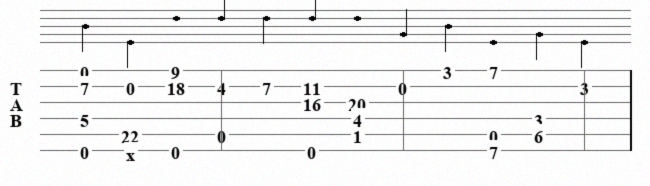0: (80, 62, 93, 78), (80, 142, 93, 158), (126, 78, 139, 94), (171, 142, 184, 158), (217, 126, 230, 142), (307, 142, 320, 158), (398, 78, 411, 94), (489, 126, 502, 142)
1: (353, 126, 366, 142)
11: (303, 78, 325, 94)
16: (303, 94, 325, 110)
18: (167, 78, 189, 94)
20: (348, 94, 370, 110)
22: (121, 126, 143, 142)
3: (443, 62, 456, 78), (534, 110, 547, 126), (580, 78, 593, 94)
4: (217, 78, 230, 94), (353, 110, 366, 126)
5: (80, 110, 93, 126)
6: (534, 126, 547, 142)
7: (80, 78, 93, 94), (262, 78, 275, 94), (489, 142, 502, 158), (489, 62, 502, 78)
9: (171, 62, 184, 78)
x: (126, 144, 139, 156)
